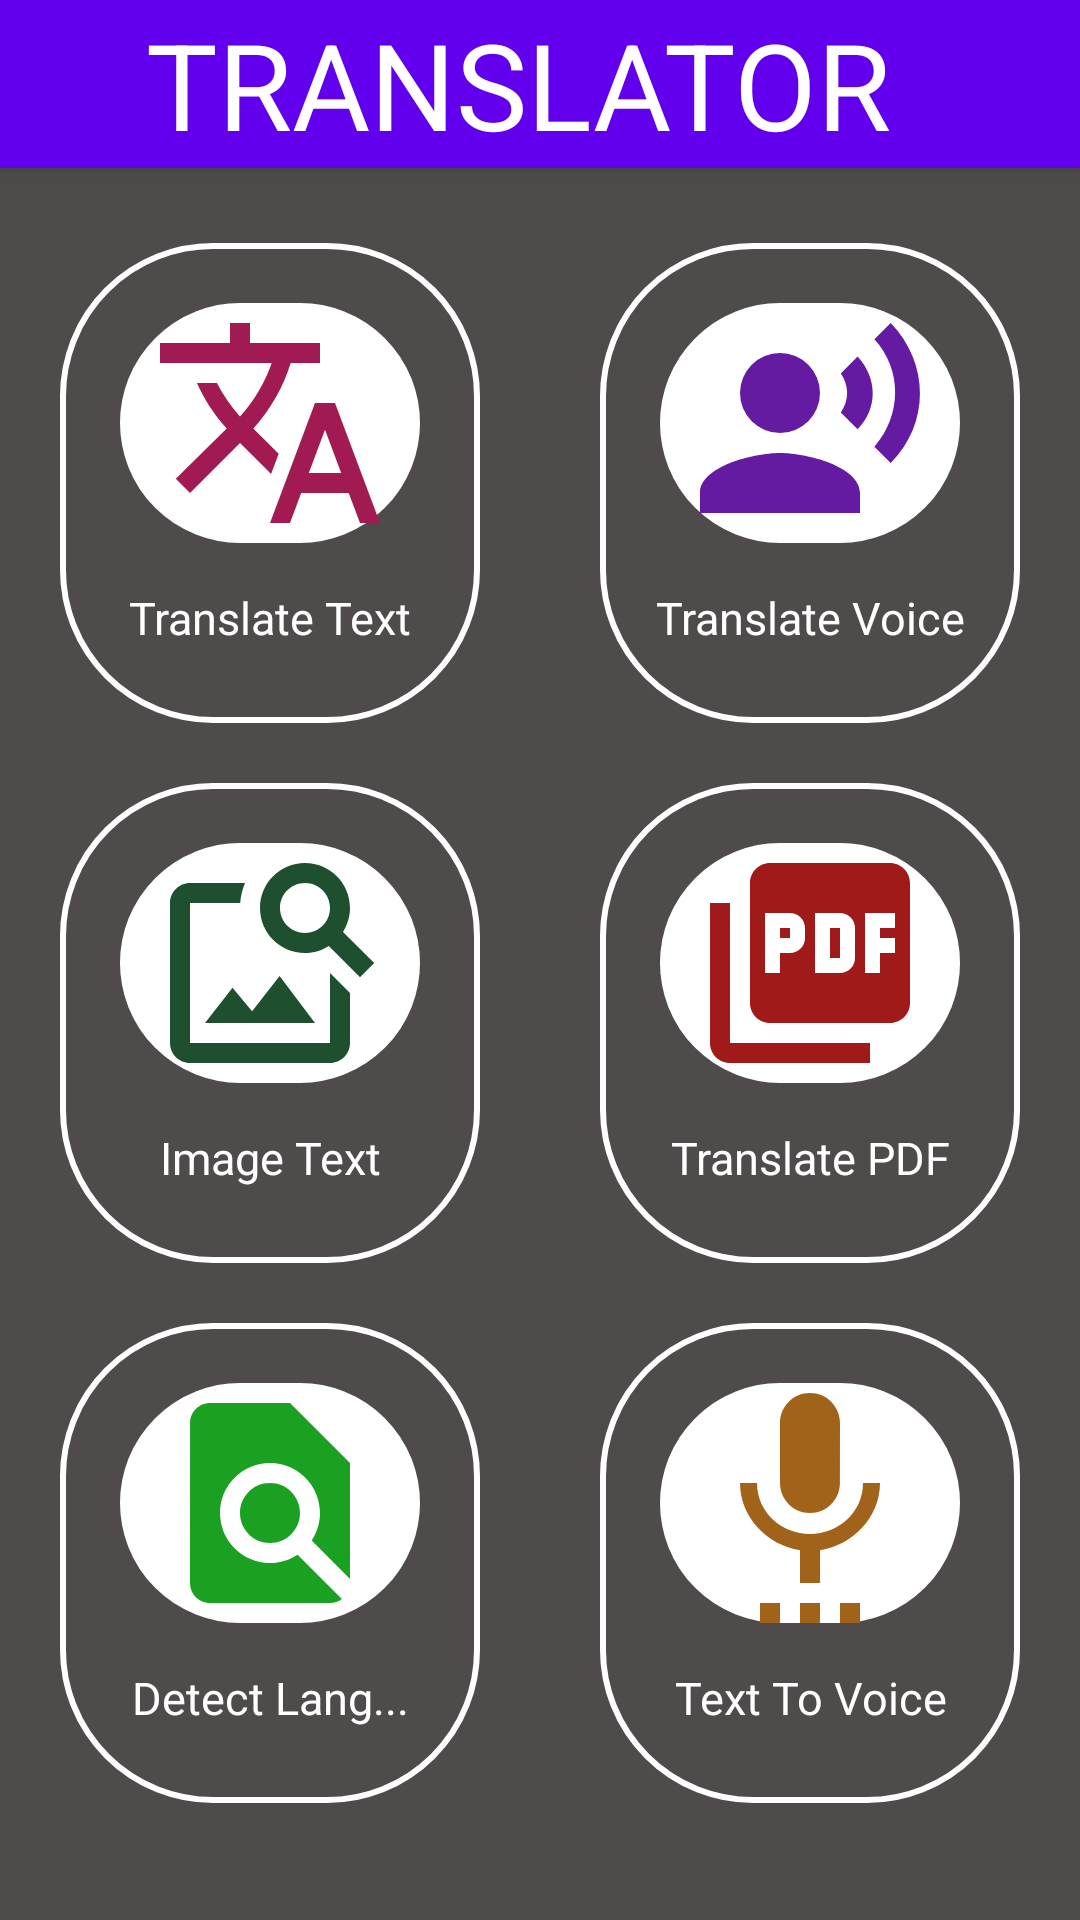

Named icons in this screenshot (1080*1920) and their bounding boxes, [left=x1, top=y1, right=x2, bottom=y2]:
find in page: [left=120, top=1383, right=420, bottom=1623]
record voice over: [left=660, top=303, right=960, bottom=543]
settings voice: [left=660, top=1383, right=960, bottom=1623]
